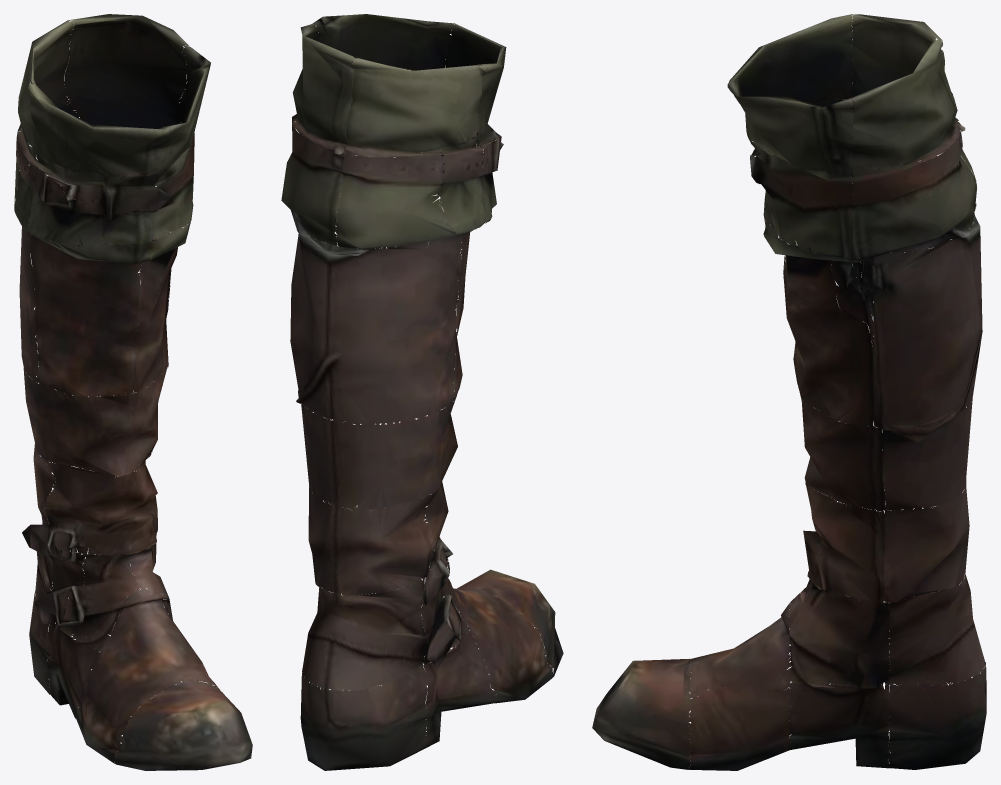
The model's file is a_ranger_boots_L.glb.
3 views of the same model, side by side, from view 1: azimuth 30°, elevation 25°; view 2: azimuth 150°, elevation 25°; view 3: azimuth 270°, elevation 25° (orthographic). The views are drawn at different scales.
Visible parts, largest first — view 1: geometry_0.001; view 2: geometry_0.001; view 3: geometry_0.001.
Boxes of the visible parts, x1,y1,x2,y2 form: geometry_0.001: (14, 14, 252, 770); geometry_0.001: (281, 14, 563, 770); geometry_0.001: (592, 14, 986, 770).
Size of the model in its own units: 0.1333 by 0.4953 by 0.249.
Materials: 1 (1 with a texture image).
